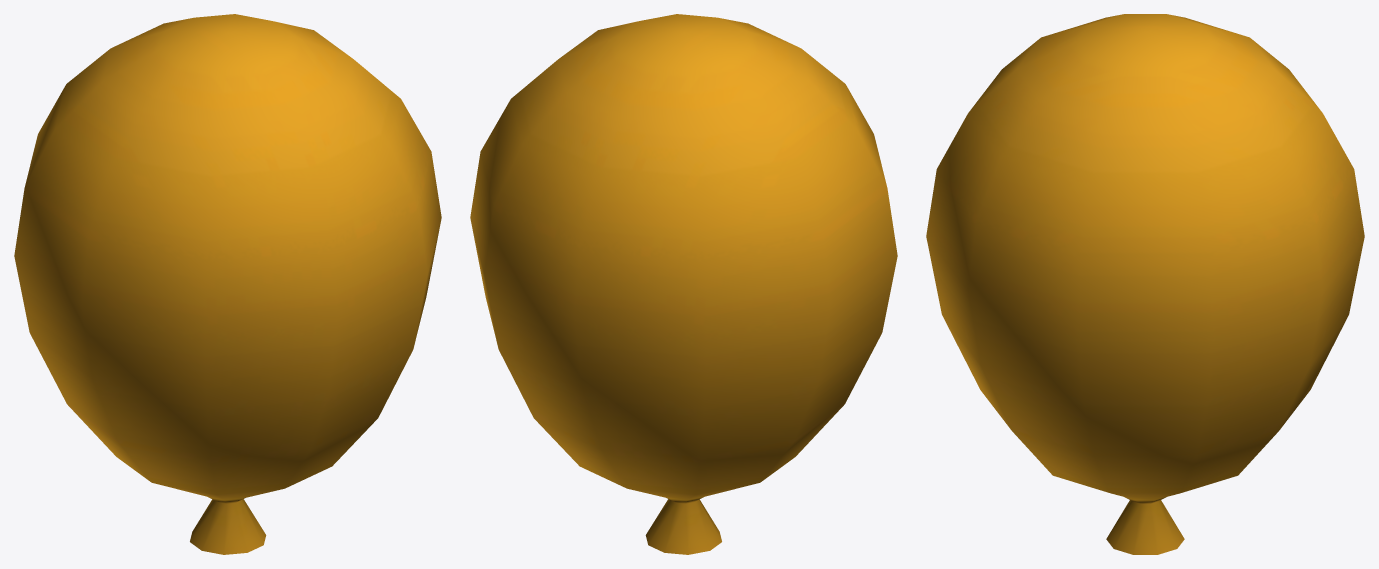
Rendered from GoldBalloonHand.fbx.
The picture shows the model from 3 angles, left to right: view 1: azimuth 30°, elevation 25°; view 2: azimuth 150°, elevation 25°; view 3: azimuth 270°, elevation 25°; orthographic projection.
Parts seen in each view (by area): view 1: Balloon; view 2: Balloon; view 3: Balloon.
Part boxes in pixels (box(x1,y1,x2,y2)): Balloon: box(14, 14, 441, 554); Balloon: box(470, 14, 897, 554); Balloon: box(926, 14, 1364, 554).
Bounding box in the file's own units: 1.19 × 1.6 × 1.26.
